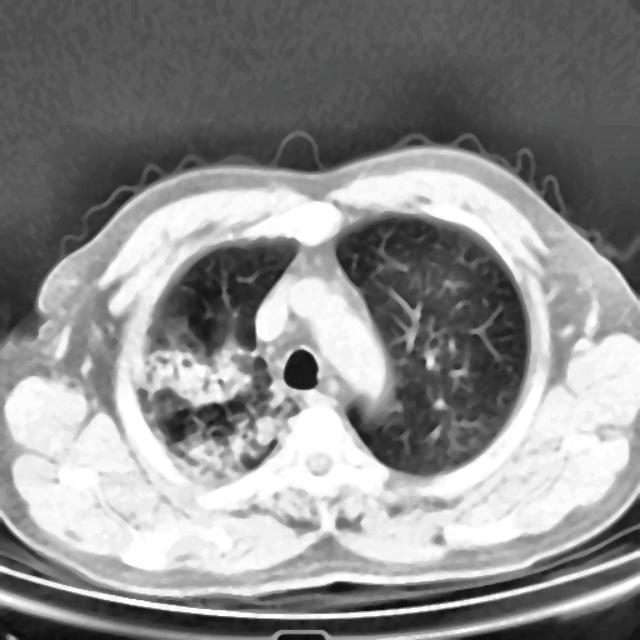covid: (0, 135, 639, 602)
